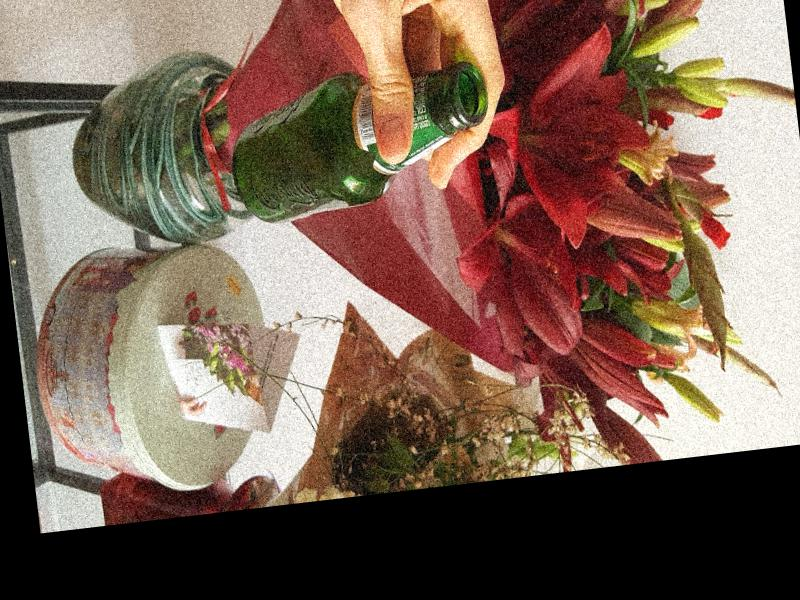Beer: (223, 57, 497, 228)
